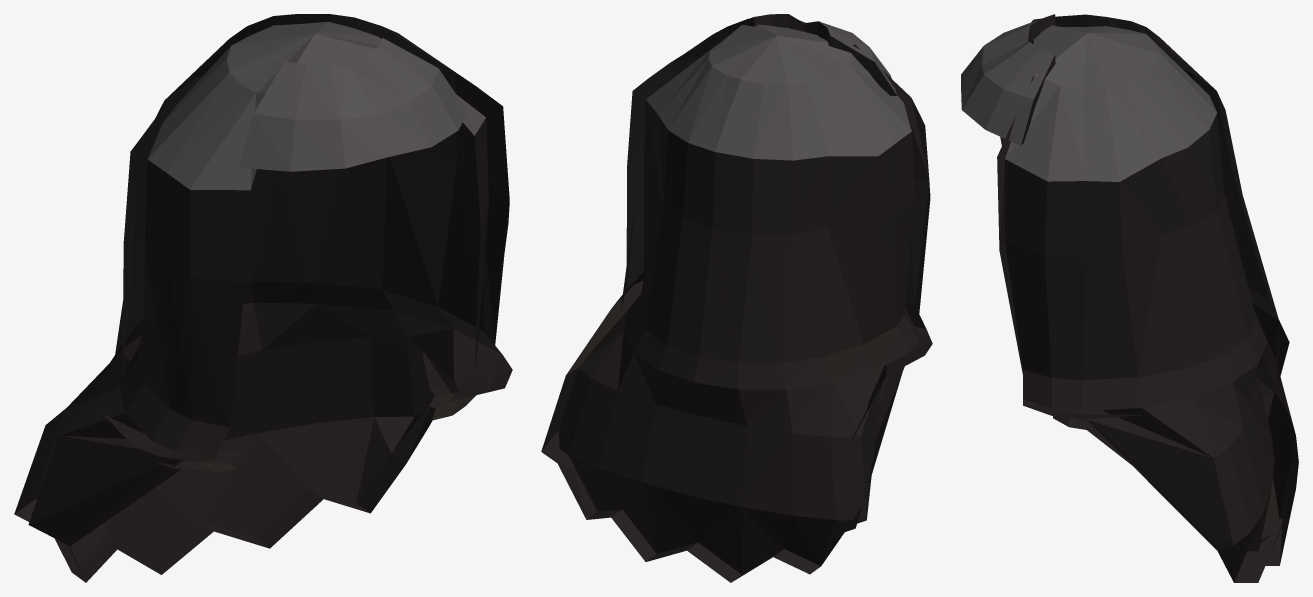
The model's file is hair_long_wavy_01.glb.
3 views of the same model, side by side, from view 1: azimuth 30°, elevation 25°; view 2: azimuth 150°, elevation 25°; view 3: azimuth 270°, elevation 25° (orthographic). The views are drawn at different scales.
Parts seen in each view (by area): view 1: hair_long_wavy_01; view 2: hair_long_wavy_01; view 3: hair_long_wavy_01.
Boxes of the visible parts, x1=… form: hair_long_wavy_01: x1=14, y1=14, x2=512, y2=582; hair_long_wavy_01: x1=541, y1=14, x2=932, y2=582; hair_long_wavy_01: x1=961, y1=14, x2=1298, y2=582.
Bounding box in the file's own units: 0.3892 × 0.5576 × 0.3344.
1 material, 1 textured.
